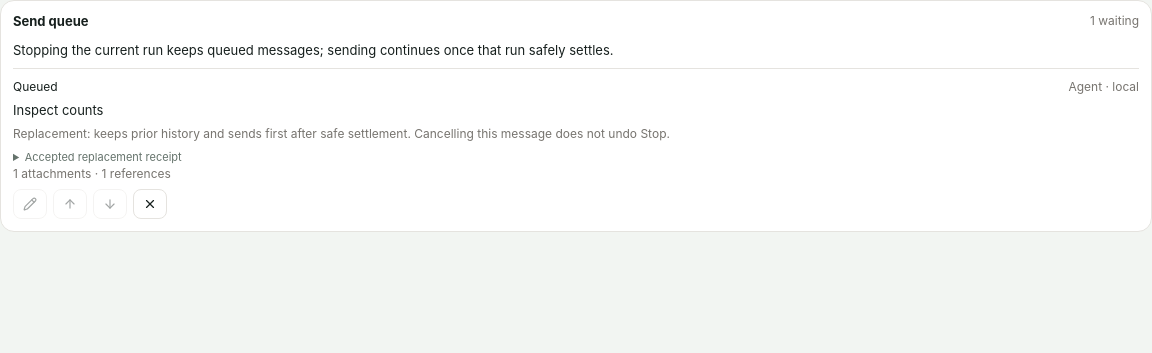
shows the durable source and Stop receipt from a restored queue row
Click the heading "Accepted replacement receipt" at (103, 157), box [25, 150, 182, 164]
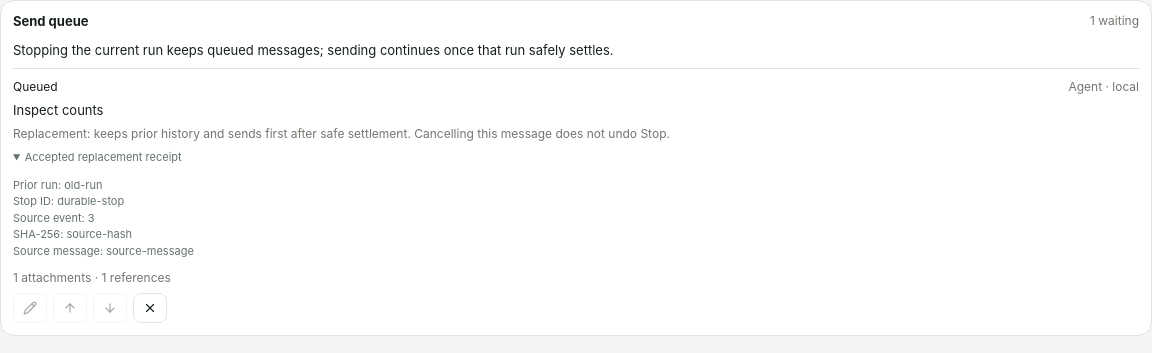
Expected: the text "Source message: source-message" is shown, [13, 178, 194, 258]
